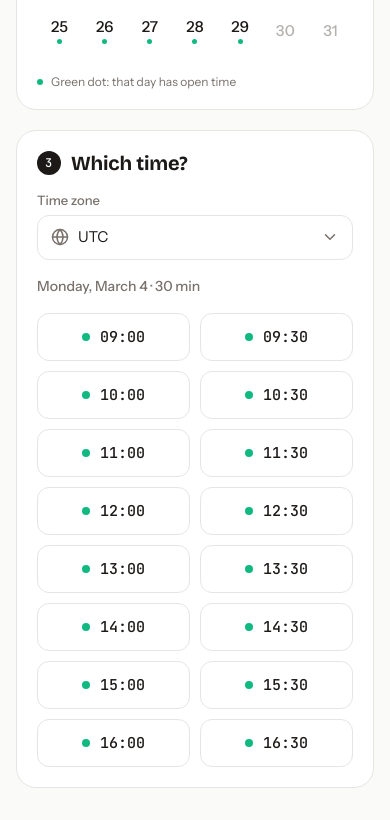
Test: BookingPage › keeps the list on phones and opens the form from the action bar
(page scrolled)
expect the element named "Open times" is shown: met, box [37,313,353,767]
expect the button "Continue" is not shown: met
Click the button "14:30": point(276, 627) [200,603,353,651]
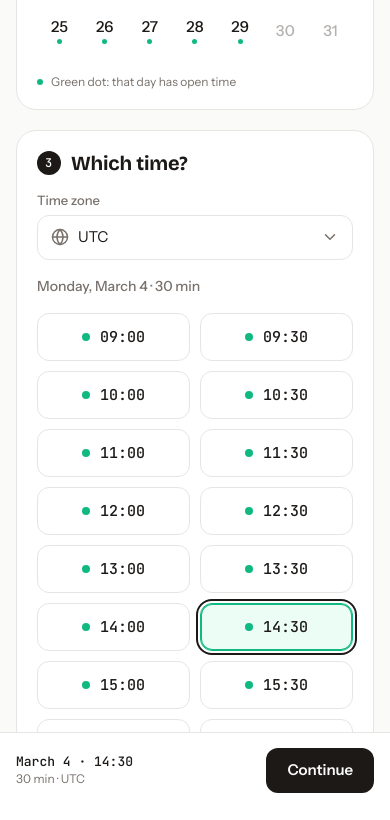
expect the heading "Which time?" is shown: met, box [71,152,187,176]
expect the text "March 4 · 14:30" is shown: met, box [16,754,133,770]
Click the button "Continue": point(320, 770) [266,748,374,793]
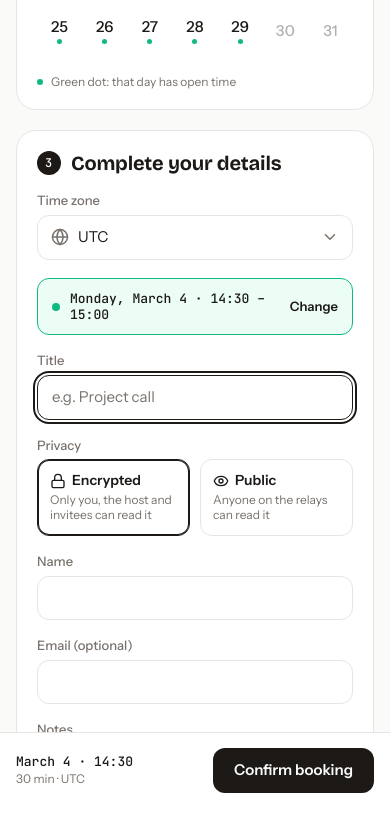
expect the heading "Complete your details" is shown: met, box [71,152,281,176]
